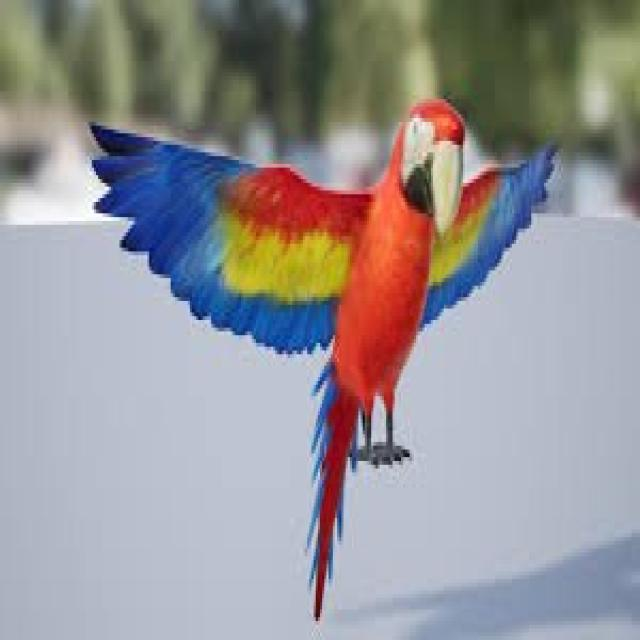Parrot: (86, 97, 564, 553)
